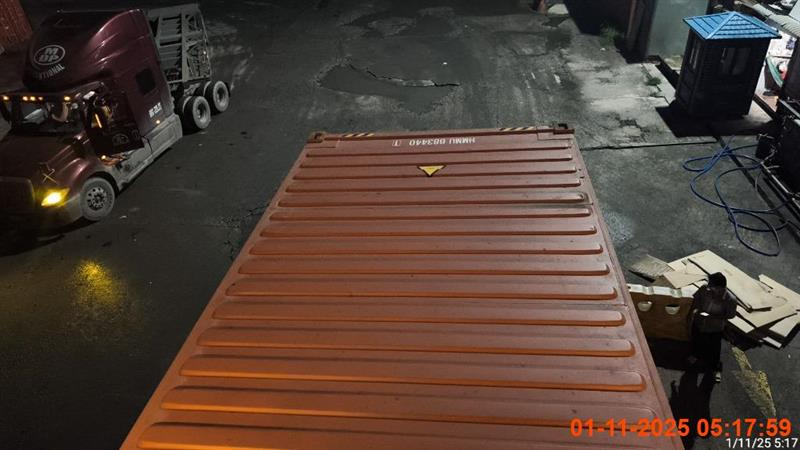broken: (121, 126, 682, 443), (0, 4, 231, 238), (685, 271, 737, 376)
